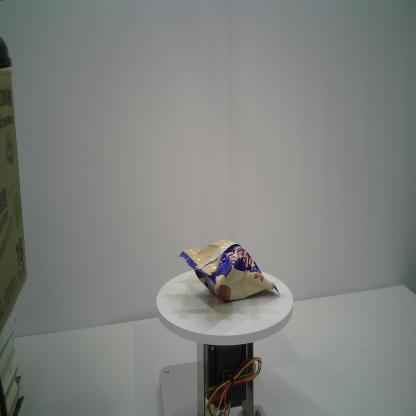Dessert: (177, 238, 281, 302)
